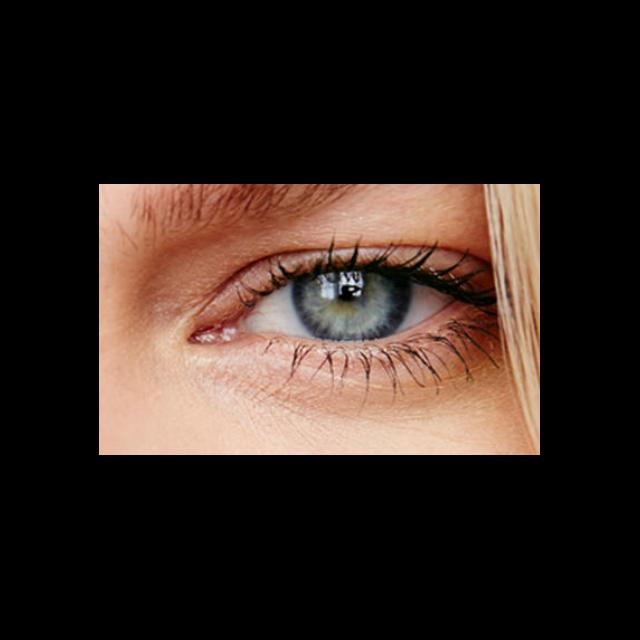eye: (255, 271, 457, 342)
iris: (297, 272, 412, 340)
